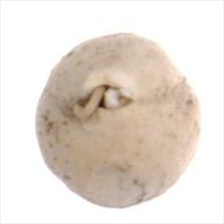L3: (75, 77, 138, 117)
L4: (35, 33, 203, 208)
